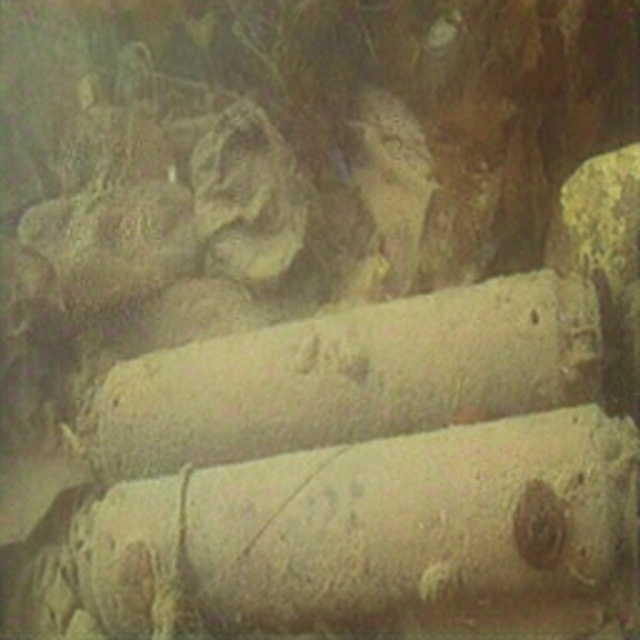mine: (74, 396, 639, 636), (83, 263, 602, 489)
